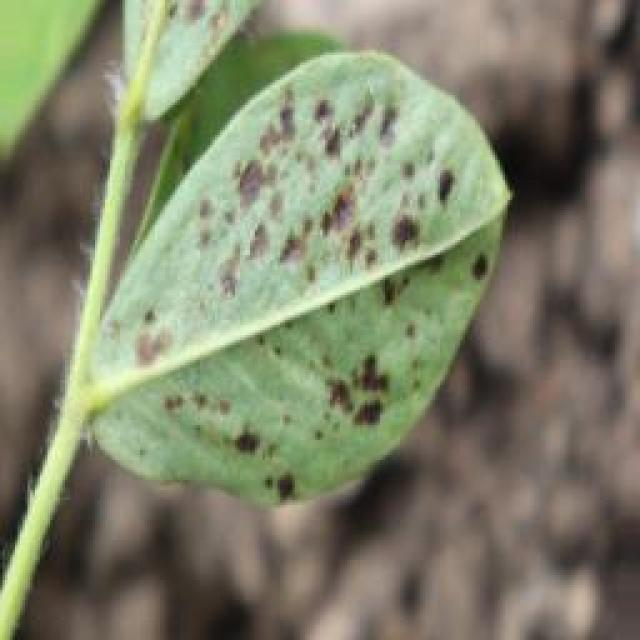Whitefly: (72, 44, 476, 516), (77, 0, 233, 93)
